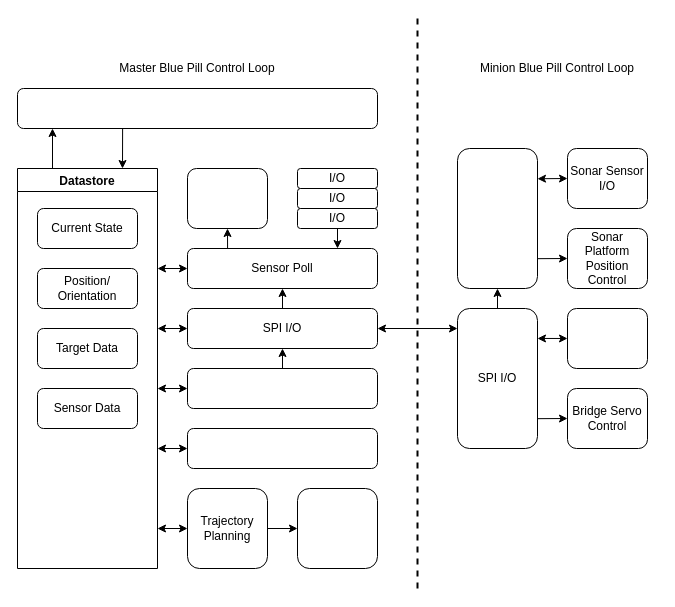
The diagram is 675 pixels wide and 607 high, and some of its shapes have lost their labels. The shapes that lost their labels are listed below. From the top down, each one's box as (x1, y1, x2, y2) in pixels, then its label:
(16, 88, 378, 128): State Machine
(186, 168, 268, 228): Wide Scan Sonar Analysis
(456, 148, 538, 288): Sonar Control
(566, 308, 648, 368): Reflectance Sensor I/O
(186, 368, 378, 408): Bridge Control
(186, 428, 378, 468): Arm Control
(296, 488, 378, 568): Drive Motor Control
